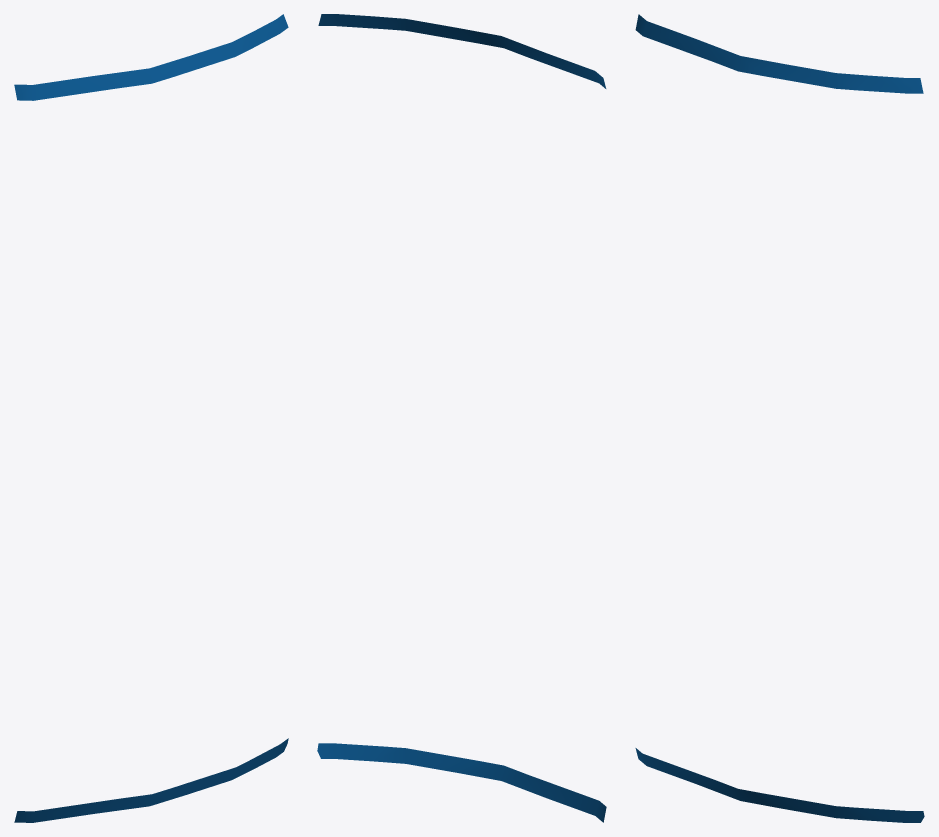
File: Torso_4.obj
3 renders of one model, left to right at view 1: azimuth 30°, elevation 25°; view 2: azimuth 150°, elevation 25°; view 3: azimuth 330°, elevation 25°, orthographic.
Size of the model in its own units: 0.0766 by 0.194 by 0.0117.
